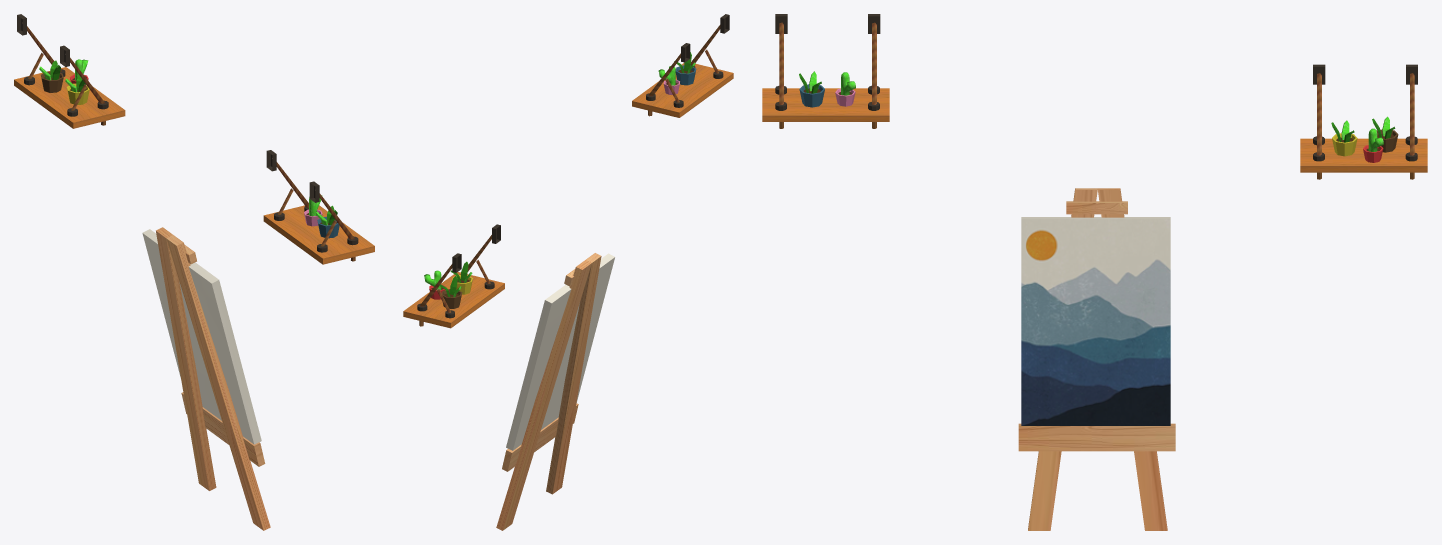
Rendered from Right4.fbx.
The picture shows the model from 3 angles, left to right: view 1: azimuth 30°, elevation 25°; view 2: azimuth 150°, elevation 25°; view 3: azimuth 270°, elevation 25°; orthographic projection. The views are drawn at different scales.
Parts seen in each view (by area): view 1: Right4; view 2: Right4; view 3: Right4.
Boxes of the visible parts, x1=… form: Right4: x1=14, y1=14, x2=374, y2=530; Right4: x1=403, y1=14, x2=733, y2=530; Right4: x1=762, y1=14, x2=1427, y2=530.
Size of the model in its own units: 626 by 4604 by 3671.
